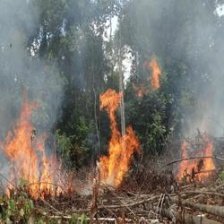fire: (96, 95, 145, 205), (9, 115, 59, 196), (178, 152, 223, 194)
smoke: (165, 16, 224, 137), (1, 15, 65, 109)
